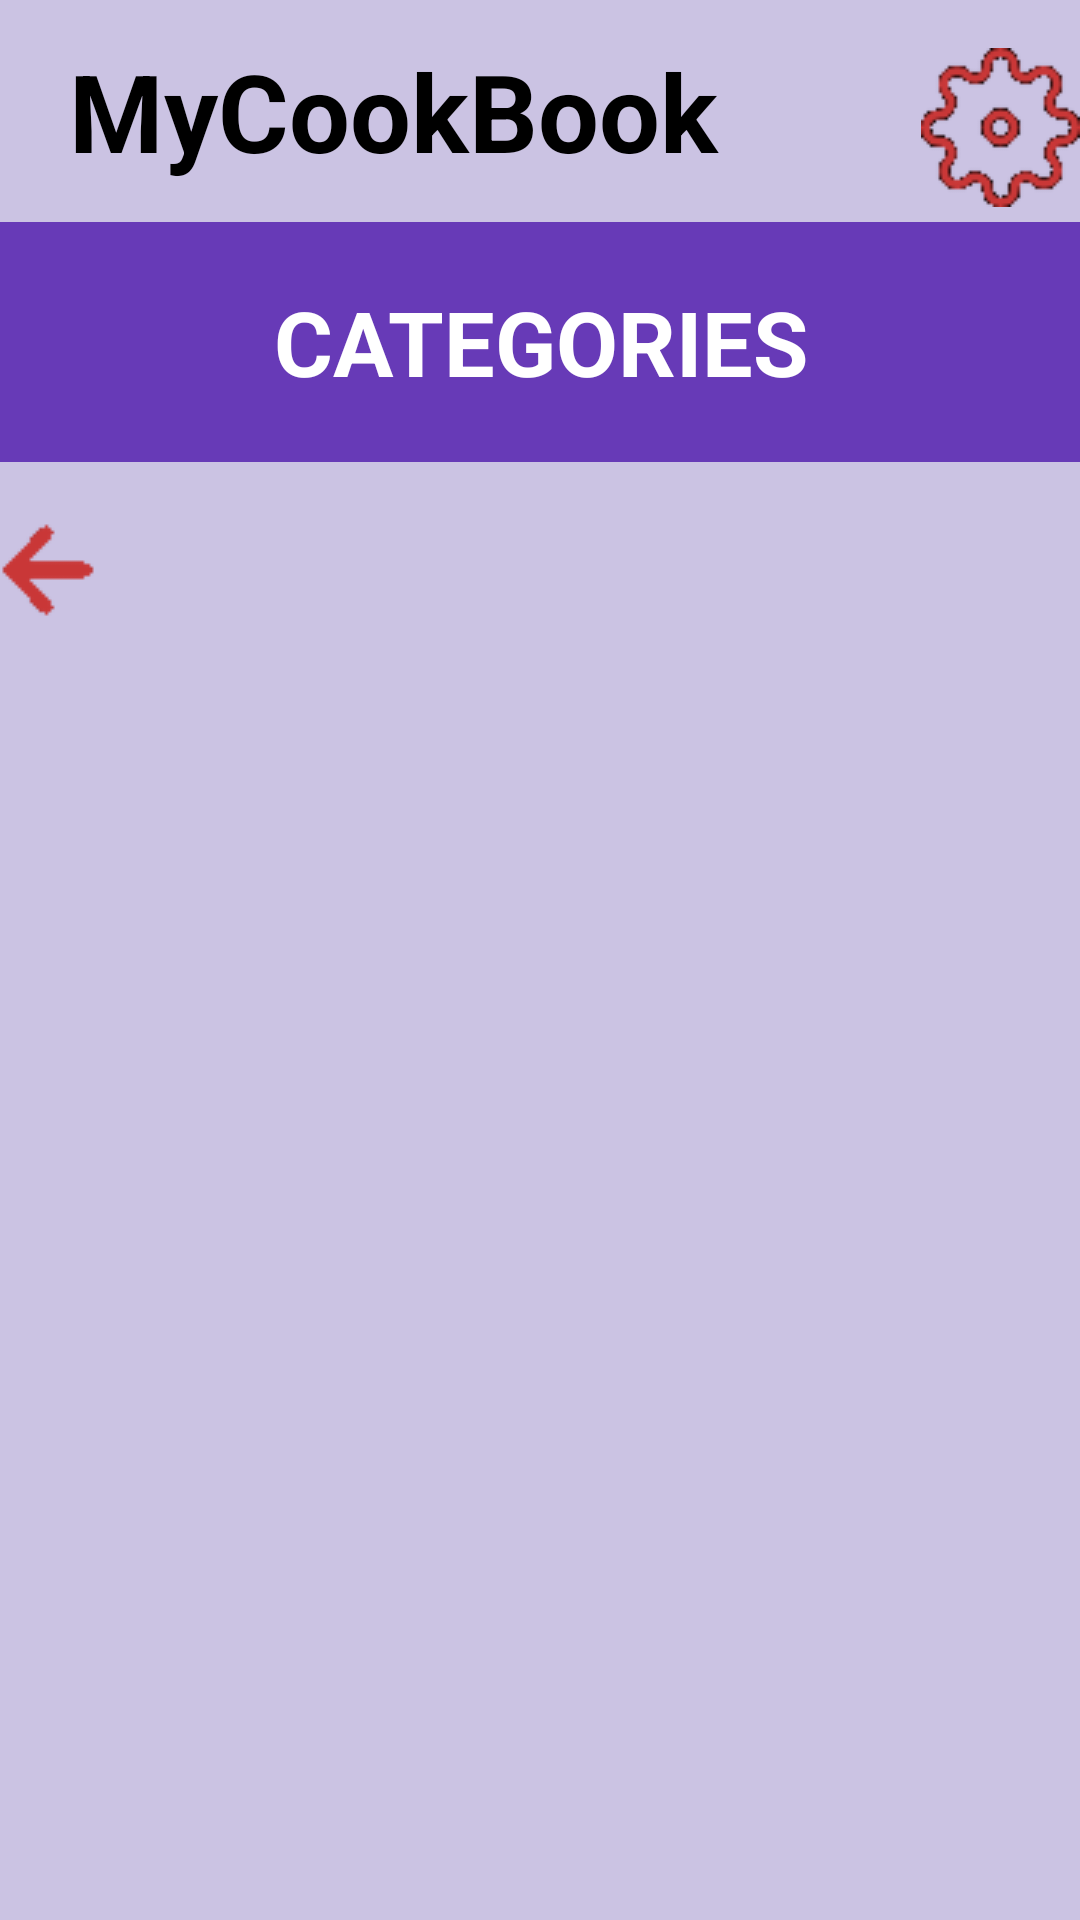

Icons on this 1080×1920 Android screen, each with the point to tap as [x,y]:
leftarrow: [48,570]
settings: [1000,127]
